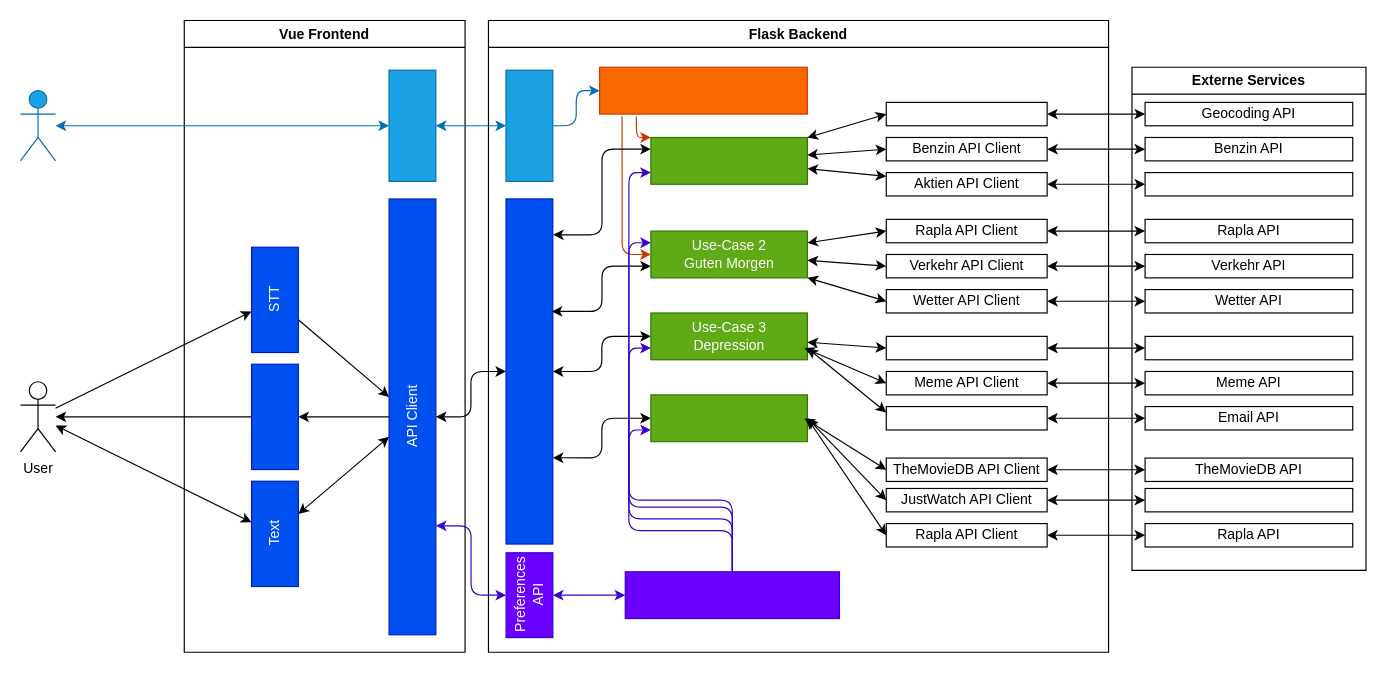
This 1386x673 diagram has some shape labels left out. Each missing label, with the centre of its shape:
"Aktien API" belongs at point 1248,183.
"API" belongs at point 529,371.
"Dev API" belongs at point 529,125.
"Dev Client" belongs at point 412,125.
"Email API Client" belongs at point 966,417.
"Geocoding API Client" belongs at point 966,113.
"JustWatch API" belongs at point 1248,499.
"Scheduler" belongs at point 702,90.
"Settings" belongs at point 731,595.
"Spotify API" belongs at point 1248,347.
"Spotify API Client" belongs at point 966,347.
"TTS" belongs at point 274,416.
"Use-Case 1 Sparsupport" belongs at point 728,160.
"Use-Case 4 Netflix" belongs at point 728,418.
